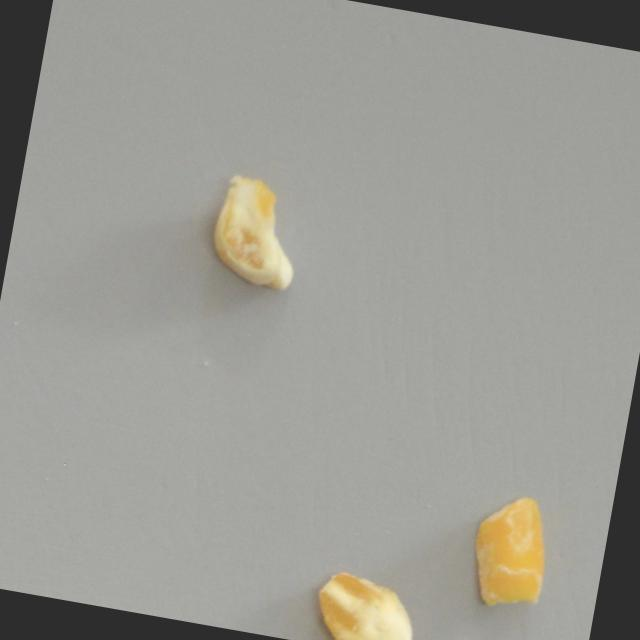dañado: (200, 169, 315, 297), (460, 486, 563, 619)
punto_negro: (305, 565, 426, 640)
